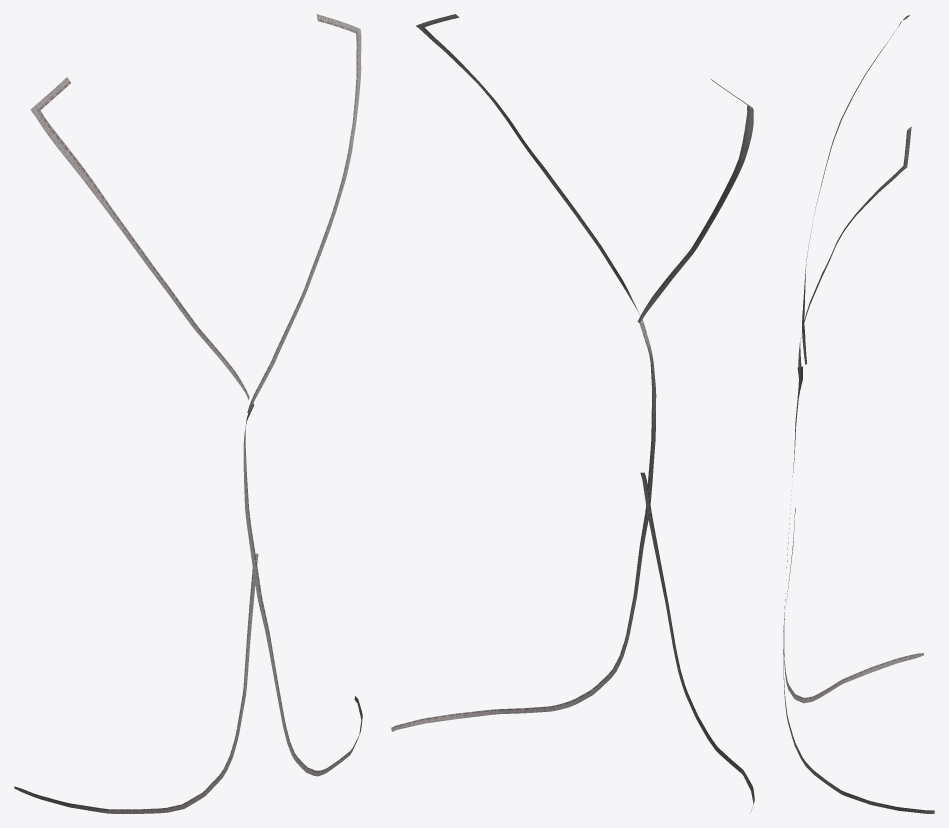
File: notch_single_button_wide_AMF 6mm.glb
3 renders of one model, left to right at view 1: azimuth 30°, elevation 25°; view 2: azimuth 150°, elevation 25°; view 3: azimuth 270°, elevation 25°, orthographic. The views are drawn at different scales.
Visible parts, largest first — view 1: notch_single_button_wide_AMF2; view 2: notch_single_button_wide_AMF2; view 3: notch_single_button_wide_AMF2.
Part boxes in pixels (<box>): notch_single_button_wide_AMF2: <box>14,14,362,813</box>; notch_single_button_wide_AMF2: <box>391,14,754,812</box>; notch_single_button_wide_AMF2: <box>783,15,934,813</box>.
Bounding box in the file's own units: 0.0474 × 0.093 × 0.0191.
Materials: 1 (1 with a texture image).
